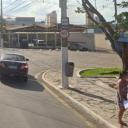speed_limit_40: (59, 30, 70, 39)
